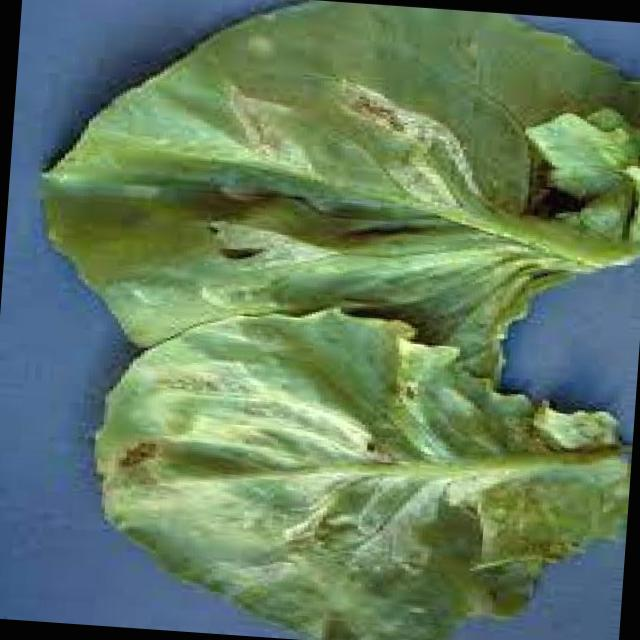Downy_Mildew: (173, 64, 506, 308), (140, 360, 503, 576)
